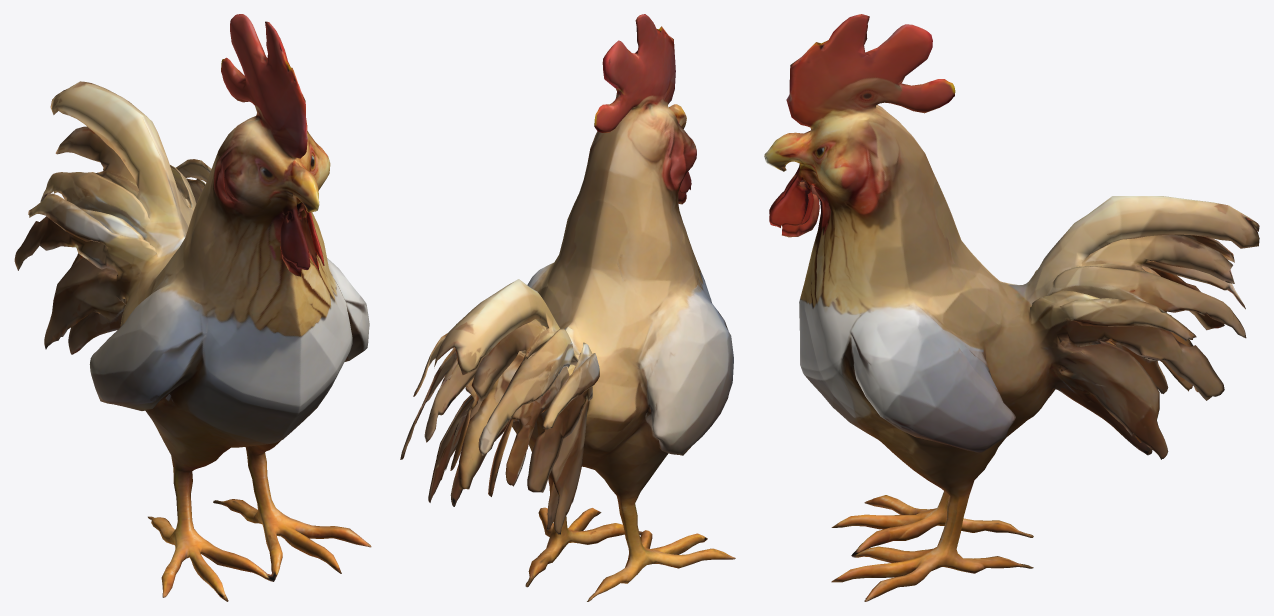
The model's file is humanoid_low_poly_chi_0110210917_texture.fbx.
3 views of the same model, side by side, from view 1: azimuth 30°, elevation 25°; view 2: azimuth 150°, elevation 25°; view 3: azimuth 270°, elevation 25° (orthographic). The views are drawn at different scales.
Visible parts, largest first — view 1: Mesh1_Mesh1.010; view 2: Mesh1_Mesh1.010; view 3: Mesh1_Mesh1.010.
Boxes of the visible parts, <box> form: Mesh1_Mesh1.010: <box>14,14,371,601</box>; Mesh1_Mesh1.010: <box>400,14,735,601</box>; Mesh1_Mesh1.010: <box>764,14,1259,601</box>.
Bounding box in the file's own units: 87.88 × 200 × 165.
1 material, 1 textured.
